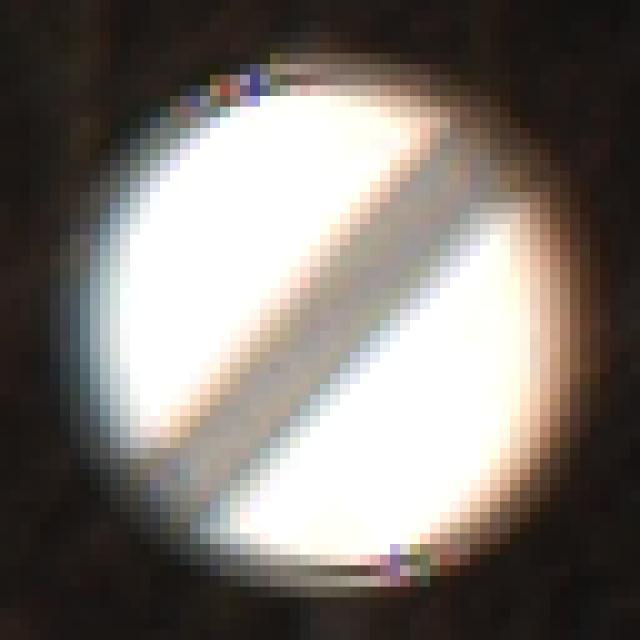restriction ends: (61, 52, 601, 611)
